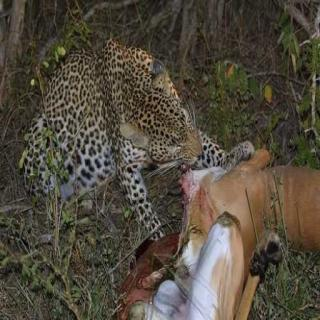Leopard: (20, 29, 205, 232)
